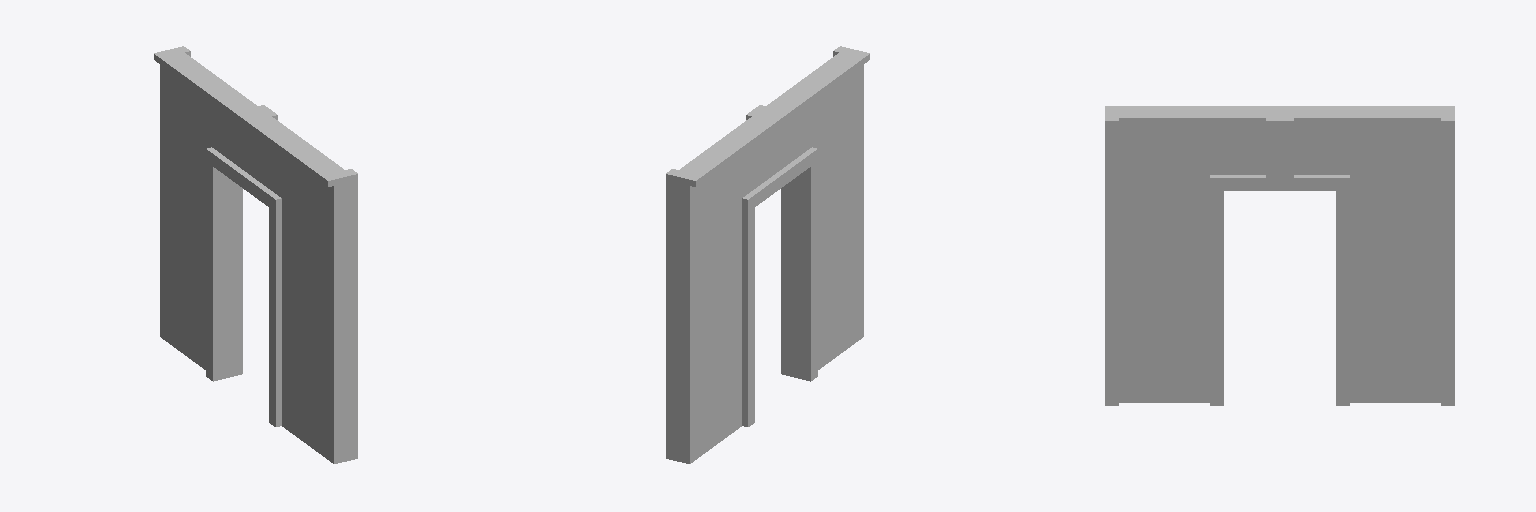
File: Kitchen_wall_with_door.obj
The picture shows the model from 3 angles: view 1: azimuth 30°, elevation 25°; view 2: azimuth 150°, elevation 25°; view 3: azimuth 270°, elevation 25°; orthographic projection.
Visible parts, largest first — view 1: object 1; view 2: object 1; view 3: object 1.
Part boxes in pixels (bbox=[...]): object 1: bbox=[154, 46, 357, 463]; object 1: bbox=[666, 46, 869, 463]; object 1: bbox=[1105, 106, 1454, 405].
Bounding box in the file's own units: 0.5 × 4.5 × 5.